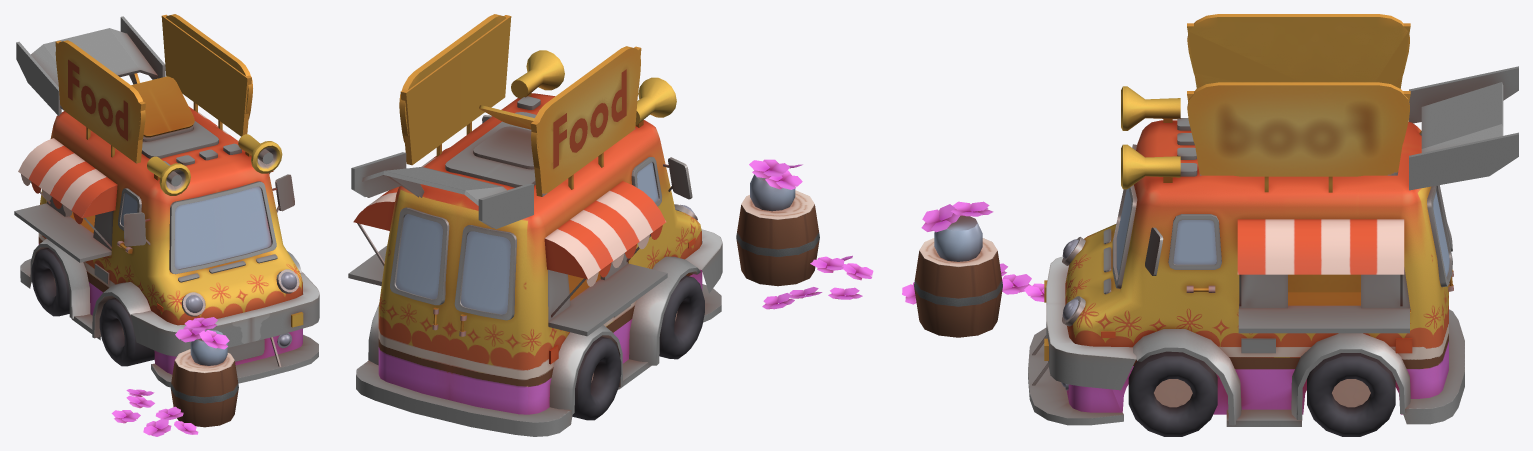
Rendered from food_trucks _5_7.fbx.
3 views of the same model, side by side, from view 1: azimuth 30°, elevation 25°; view 2: azimuth 150°, elevation 25°; view 3: azimuth 270°, elevation 25° (orthographic). The views are drawn at different scales.
Parts seen in each view (by area): view 1: Cube.103, Cube.088, Cube.127, Cube.265, Cube.107, Plane.036, Cylinder.112, Cube.120, Cube.093, Cube.097, Cylinder.110, Cylinder.109 (+21 smaller); view 2: Cube.103, Cube.101, Cube.265, Plane.036, Cube.127, Cylinder.112, Cube.105, Cube.093, Cube.264, Cube.119, Circle.041, Cylinder.110 (+16 smaller); view 3: Cube.103, Cube.127, Plane.036, Cylinder.112, Cylinder.109, Cylinder.108, Cube.119, Cube.107, Cube.093, Cube.264, Cube.120, Circle.042 (+16 smaller).
Boxes of the visible parts, x1,y1,x2,y2 form: Cube.103: (38,106,302,374); Cube.088: (174,186,271,269); Cube.127: (55,14,252,157); Cube.265: (161,14,251,136); Cube.107: (130,272,319,356); Plane.036: (18,112,273,218); Cylinder.112: (170,349,238,427); Cube.120: (30,28,157,86); Cube.093: (14,203,111,262); Cube.097: (131,76,194,137); Cylinder.110: (147,134,282,195); Cylinder.109: (99,294,303,366); Cube.103: (378,93,702,414); Cube.101: (390,207,516,320); Cube.265: (400,15,511,165); Plane.036: (353,147,665,279); Cube.127: (399,14,640,189); Cylinder.112: (736,190,819,286); Cube.105: (356,360,572,436); Cube.093: (348,245,667,336); Cube.264: (530,46,641,196); Cube.119: (351,152,533,229); Circle.041: (629,256,700,365); Cylinder.110: (511,50,676,127); Cube.103: (1065,120,1448,414); Cube.127: (1187,14,1409,192); Plane.036: (1237,219,1404,274); Cylinder.112: (914,238,1002,337); Cylinder.109: (1128,351,1217,436); Cylinder.108: (1307,353,1395,436); Cube.119: (1409,66,1518,190); Cube.107: (1046,256,1136,390); Cube.093: (1238,305,1409,333); Cube.264: (1187,23,1410,88); Cube.120: (1421,82,1503,152); Circle.042: (1291,333,1410,420).
Bounding box in the file's own units: 3.39 × 3.24 × 5.43.
